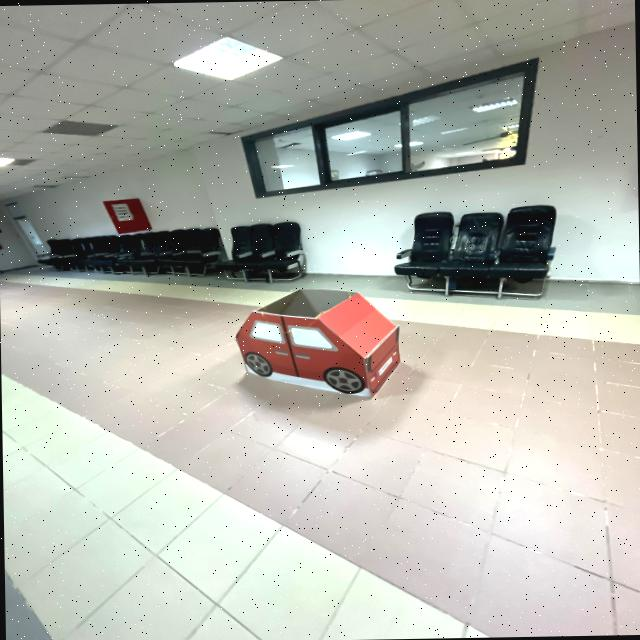red_car: (227, 283, 435, 422)
